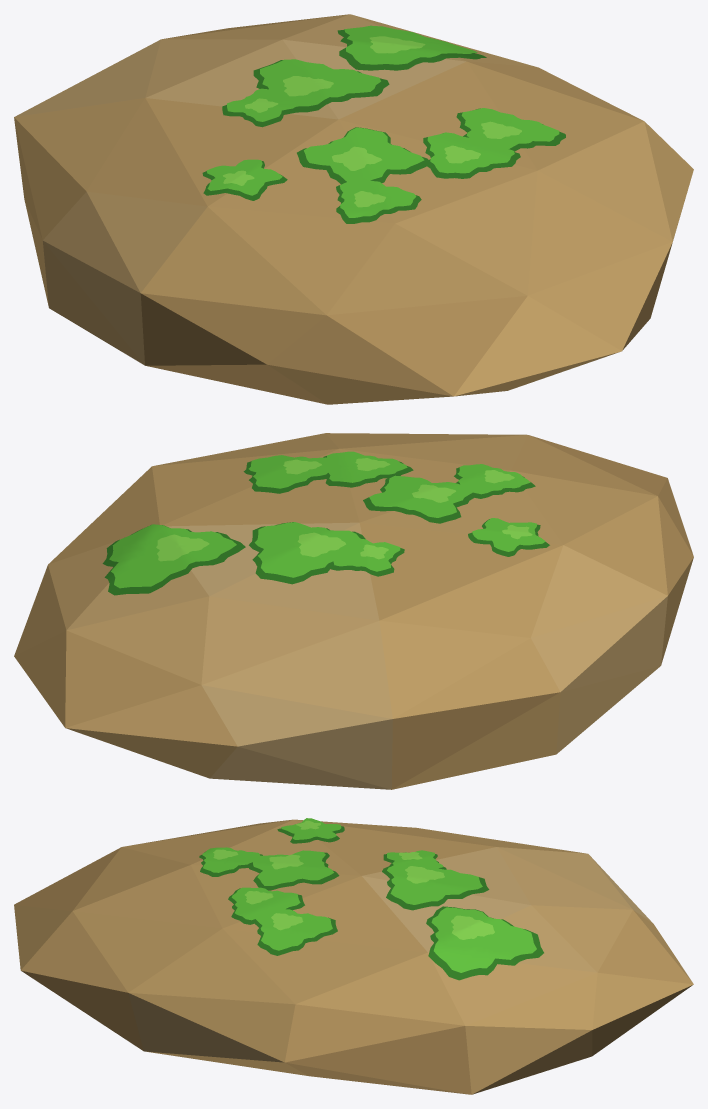
The model's file is rock_1_dots.glb.
3 renders of one model, top to bottom at view 1: azimuth 30°, elevation 25°; view 2: azimuth 150°, elevation 25°; view 3: azimuth 270°, elevation 25°, orthographic. The views are drawn at different scales.
Visible parts, largest first — view 1: rock_1_dots; view 2: rock_1_dots; view 3: rock_1_dots.
Part boxes in pixels (x1,y1,x2,y2): rock_1_dots: [14, 14, 693, 404]; rock_1_dots: [14, 433, 693, 789]; rock_1_dots: [14, 818, 693, 1094].
Size of the model in its own units: 1.97 by 0.6178 by 2.6.
